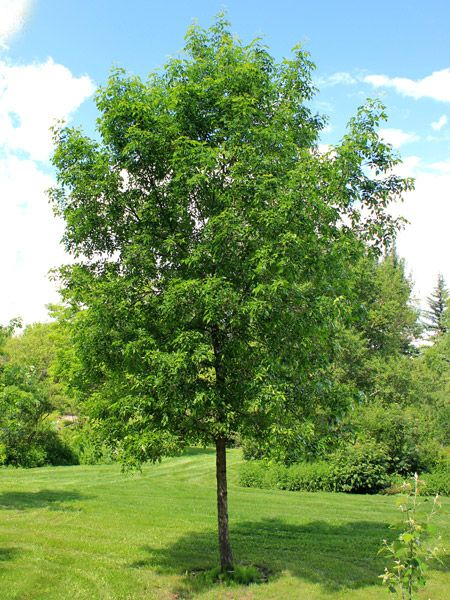tree: (44, 6, 416, 576)
